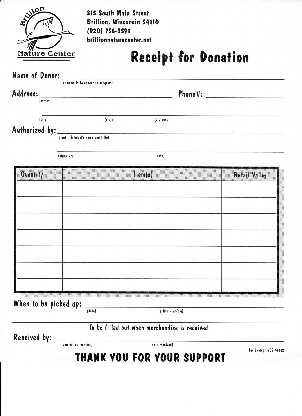textbox: (60, 194, 224, 216), (60, 178, 224, 199), (60, 211, 224, 232), (61, 260, 224, 280), (61, 228, 225, 247), (60, 245, 224, 264), (61, 276, 225, 293), (221, 177, 280, 199), (220, 195, 281, 216), (220, 211, 281, 232), (220, 244, 280, 265), (220, 261, 281, 281), (220, 228, 280, 248), (12, 178, 64, 199), (14, 244, 64, 265), (14, 195, 65, 215), (14, 211, 64, 231), (14, 228, 64, 248), (14, 260, 64, 280), (221, 277, 279, 294), (14, 277, 64, 293)
textline: (62, 67, 287, 82), (53, 330, 288, 344), (39, 105, 289, 118), (57, 123, 286, 137), (11, 314, 286, 325), (56, 142, 286, 155), (83, 298, 287, 311), (38, 87, 174, 99), (205, 86, 288, 101)
